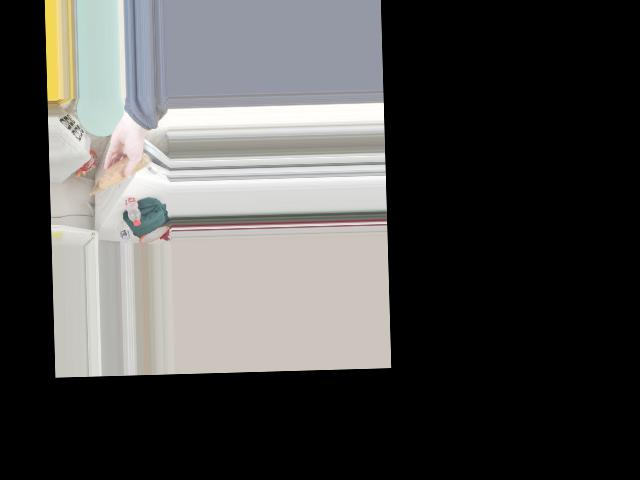sweet_potato: (102, 156, 137, 190)
